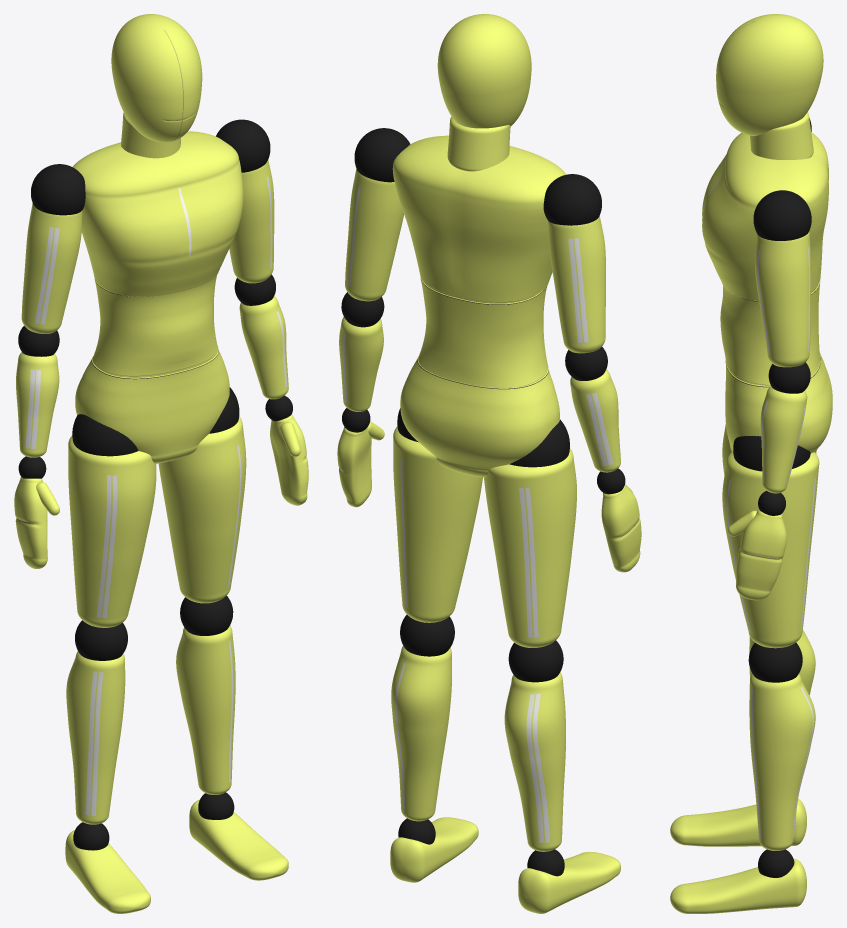
Rendered from person.glb.
The picture shows the model from 3 angles, left to right: view 1: azimuth 30°, elevation 25°; view 2: azimuth 150°, elevation 25°; view 3: azimuth 270°, elevation 25°; orthographic projection. The views are drawn at different scales.
Parts seen in each view (by area): view 1: geo_chest, geo_thigh_R, geo_thigh_L, geo_pelvis, geo_abdomen, geo_head, geo_shin_L, geo_shin_R, geo_upperArm_R, geo_upperArm_L, geo_foot_L, geo_foot_R (+19 smaller); view 2: geo_chest, geo_thigh_R, geo_pelvis, geo_thigh_L, geo_abdomen, geo_head, geo_shin_L, geo_shin_R, geo_upperArm_R, geo_upperArm_L, geo_foot_R, geo_foot_L (+18 smaller); view 3: geo_chest, geo_head, geo_thigh_L, geo_shin_L, geo_upperArm_L, geo_foot_L, geo_abdomen, geo_pelvis, geo_forearm_L, geo_foot_R, geo_hand_L, ball_shoulder_L (+8 smaller).
Boxes of the visible parts, x1,y1,x2,y2 form: geo_chest: (72, 131, 243, 296); geo_thigh_R: (68, 435, 156, 627); geo_thigh_L: (158, 416, 246, 603); geo_pelvis: (75, 349, 229, 463); geo_abdomen: (92, 275, 218, 376); geo_head: (111, 14, 202, 142); geo_shin_L: (176, 625, 235, 794); geo_shin_R: (66, 651, 125, 824); geo_upperArm_R: (21, 203, 82, 333); geo_upperArm_L: (229, 160, 274, 283); geo_foot_L: (189, 799, 288, 880); geo_foot_R: (65, 830, 150, 913); geo_chest: (392, 135, 565, 302); geo_thigh_R: (484, 448, 576, 647); geo_pelvis: (400, 356, 559, 477); geo_thigh_L: (393, 426, 482, 622); geo_abdomen: (418, 278, 548, 387); geo_head: (437, 14, 531, 128); geo_shin_L: (391, 646, 451, 821); geo_shin_R: (504, 672, 565, 851); geo_upperArm_R: (547, 216, 605, 353); geo_upperArm_L: (345, 168, 403, 301); geo_foot_R: (518, 851, 620, 913); geo_foot_L: (390, 817, 478, 882); geo_chest: (702, 132, 828, 300); geo_head: (716, 14, 823, 136); geo_thigh_L: (722, 451, 819, 648); geo_shin_L: (749, 674, 815, 850); geo_upperArm_L: (755, 231, 810, 367); geo_foot_L: (670, 859, 806, 913); geo_abdomen: (720, 280, 820, 385); geo_pelvis: (725, 352, 832, 453); geo_forearm_L: (760, 386, 807, 493); geo_foot_R: (670, 798, 806, 846); geo_hand_L: (736, 509, 786, 600); ball_shoulder_L: (753, 190, 811, 240).
Size of the model in its own units: 0.6083 by 1.75 by 0.301.
